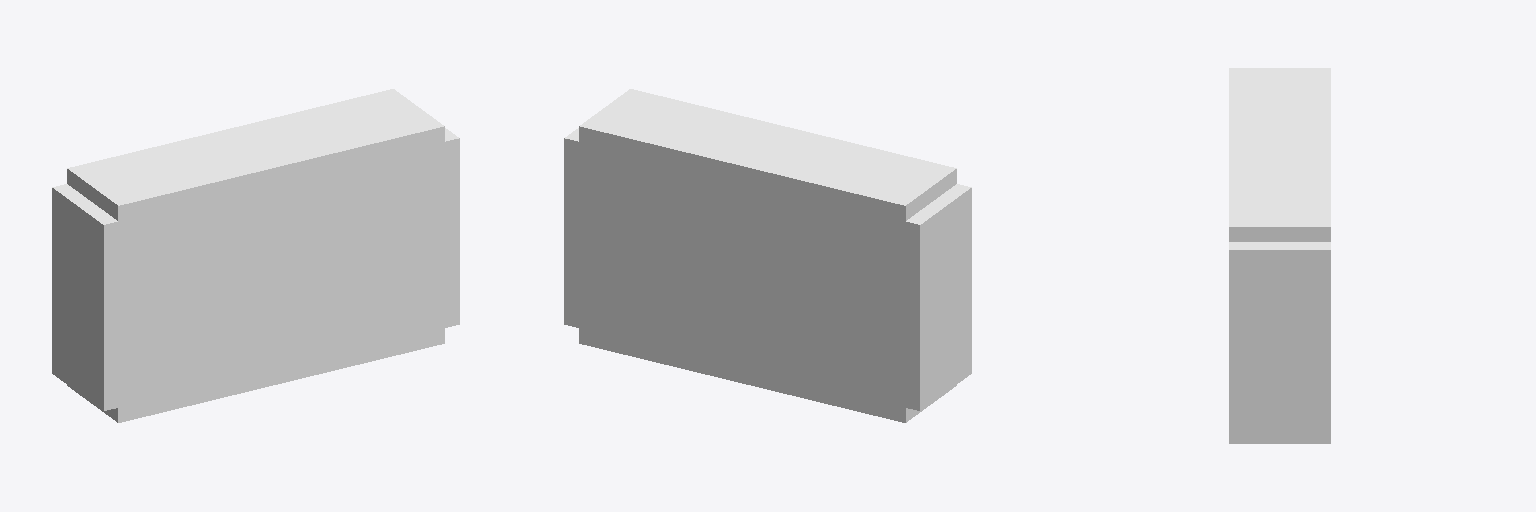
File: casset.obj
The picture shows the model from 3 angles: view 1: azimuth 30°, elevation 25°; view 2: azimuth 150°, elevation 25°; view 3: azimuth 270°, elevation 25°; orthographic projection.
Visible parts, largest first — view 1: object 1; view 2: object 1; view 3: object 1.
Part boxes in pixels (left/top/right/bottom): object 1: left=52, top=89, right=459, bottom=422; object 1: left=564, top=89, right=971, bottom=422; object 1: left=1229, top=68, right=1330, bottom=443.
Bounding box in the file's own units: 2.4 × 1.4 × 0.6.